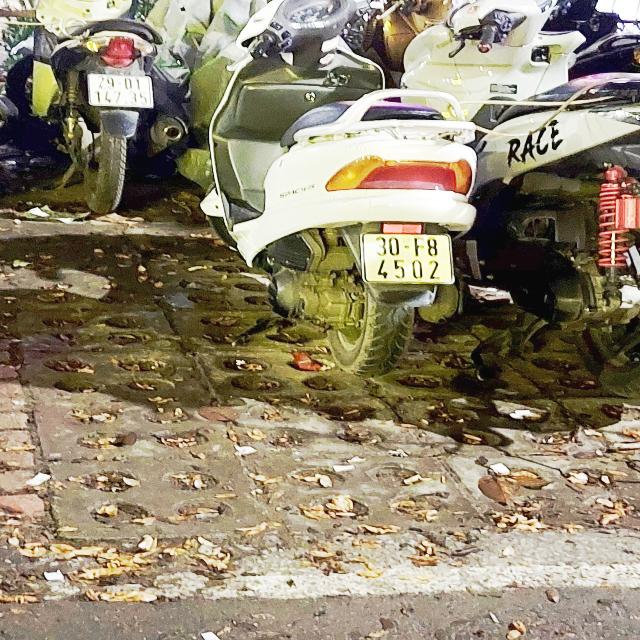license_plate: (356, 231, 458, 286)
